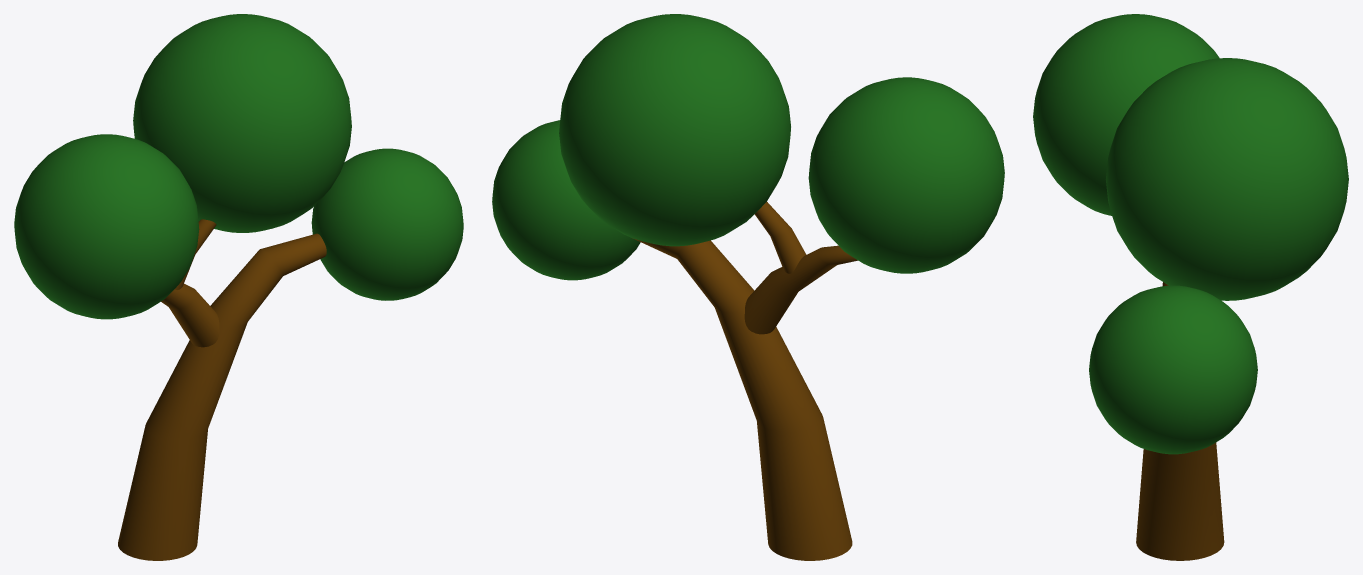
File: Tree4.fbx
3 renders of one model, left to right at view 1: azimuth 30°, elevation 25°; view 2: azimuth 150°, elevation 25°; view 3: azimuth 270°, elevation 25°, orthographic. The views are drawn at different scales.
Parts seen in each view (by area): view 1: Sphere.009, Sphere.010, Tree4, Sphere.008, Cylinder.009; view 2: Sphere.009, Sphere.010, Tree4, Sphere.008, Cylinder.009, Cylinder.010; view 3: Sphere.009, Sphere.008, Sphere.010, Tree4.
Boxes of the visible parts, <box> form: Sphere.009: <box>133,14,351,232</box>; Sphere.010: <box>14,134,199,319</box>; Tree4: <box>118,233,326,560</box>; Sphere.008: <box>311,148,463,300</box>; Cylinder.009: <box>161,283,219,347</box>; Sphere.009: <box>559,14,790,246</box>; Sphere.010: <box>808,77,1004,273</box>; Tree4: <box>632,238,852,560</box>; Sphere.008: <box>492,120,640,280</box>; Cylinder.009: <box>744,245,857,334</box>; Cylinder.010: <box>754,202,806,273</box>; Sphere.009: <box>1105,58,1348,300</box>; Sphere.008: <box>1089,285,1257,454</box>; Sphere.010: <box>1033,14,1219,215</box>; Tree4: <box>1136,442,1224,560</box>.
Size of the model in its own units: 851 by 876 by 473.
